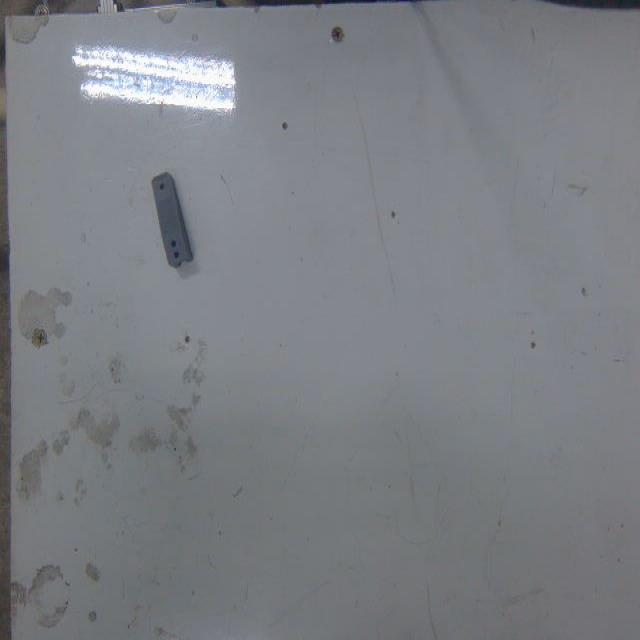grey: (152, 172, 193, 270)
head: (157, 182, 167, 192)
